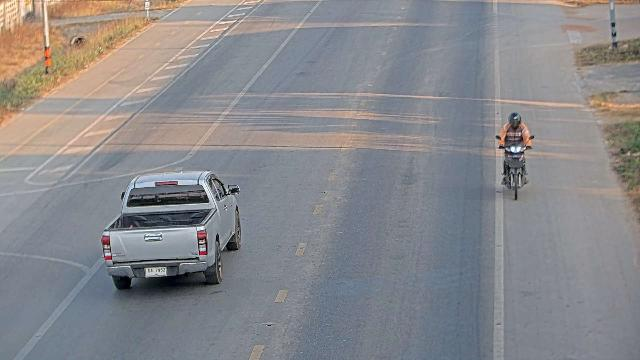motorcycle: (496, 121, 536, 199)
pickup-truck: (100, 169, 242, 290)
